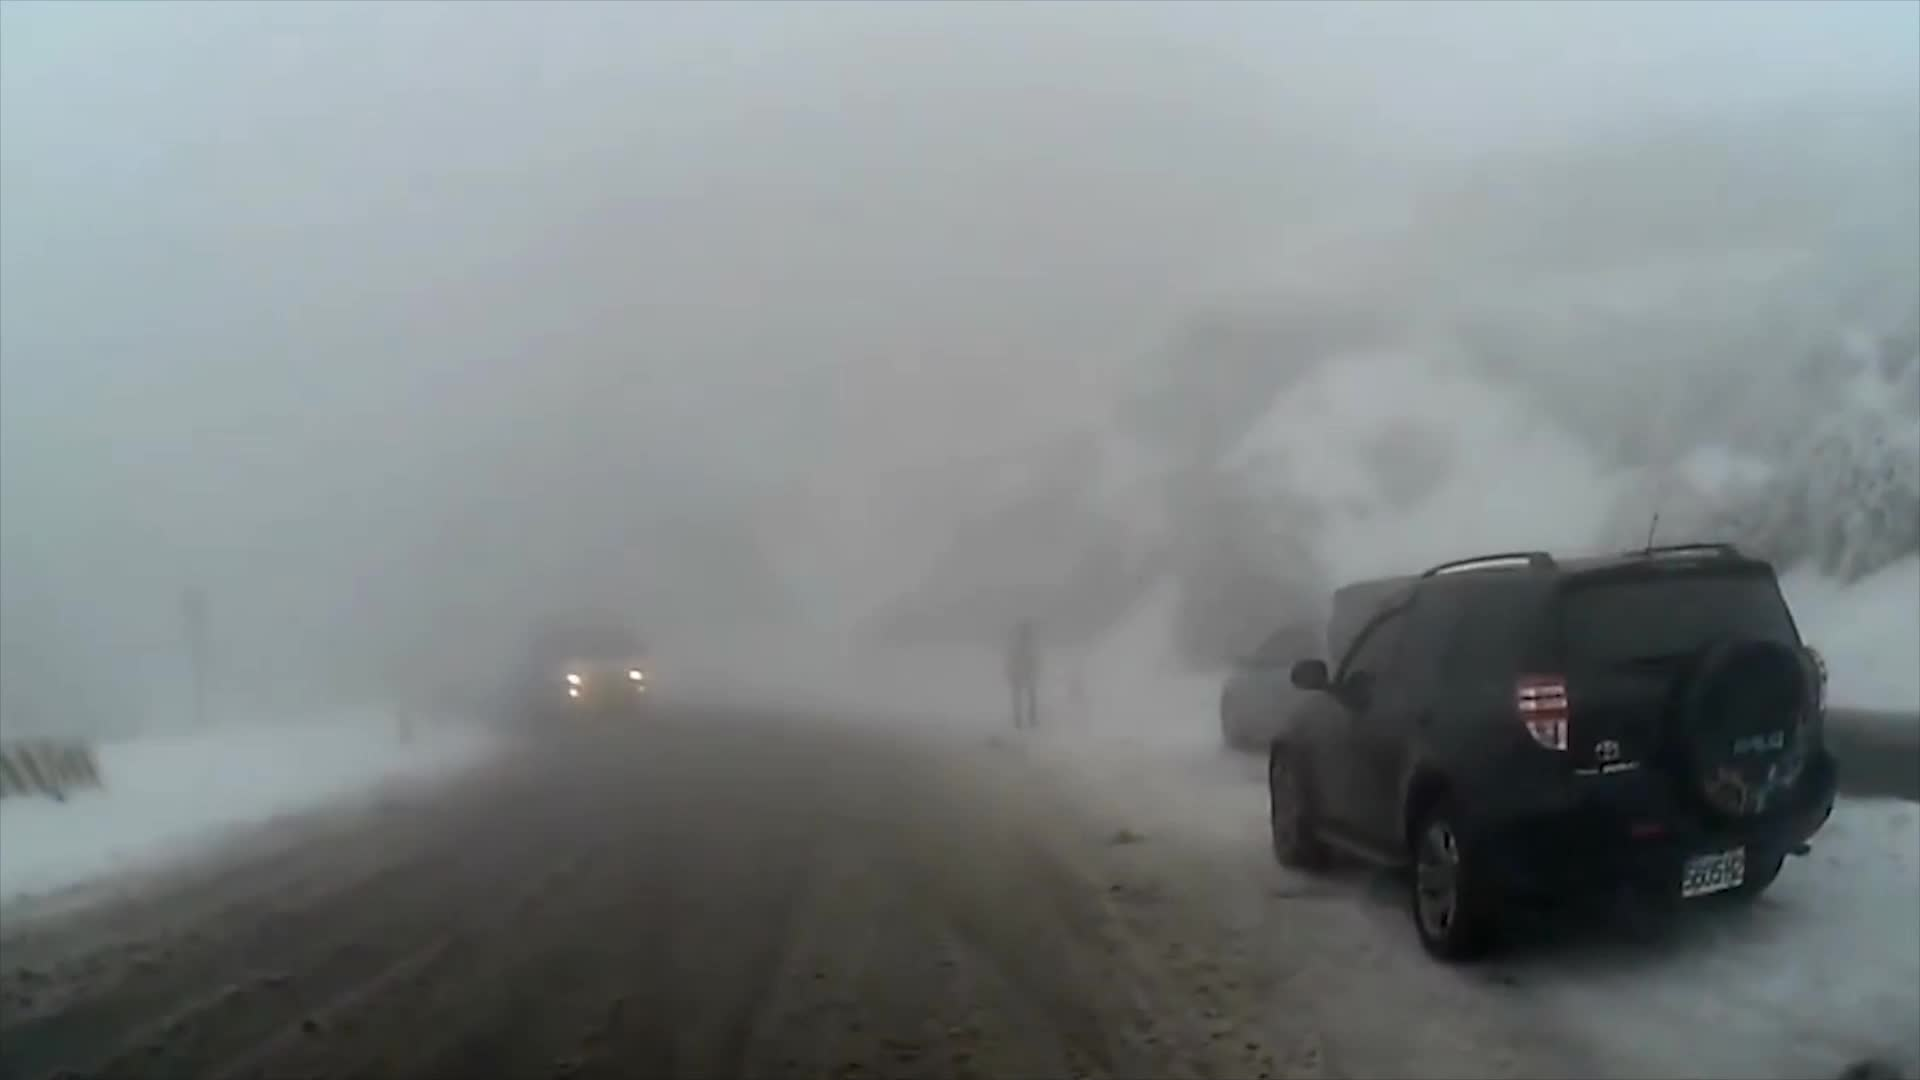pedestrian: (1000, 612, 1045, 734)
vehicle: (1263, 535, 1838, 964), (1219, 564, 1533, 757), (520, 610, 653, 719)
